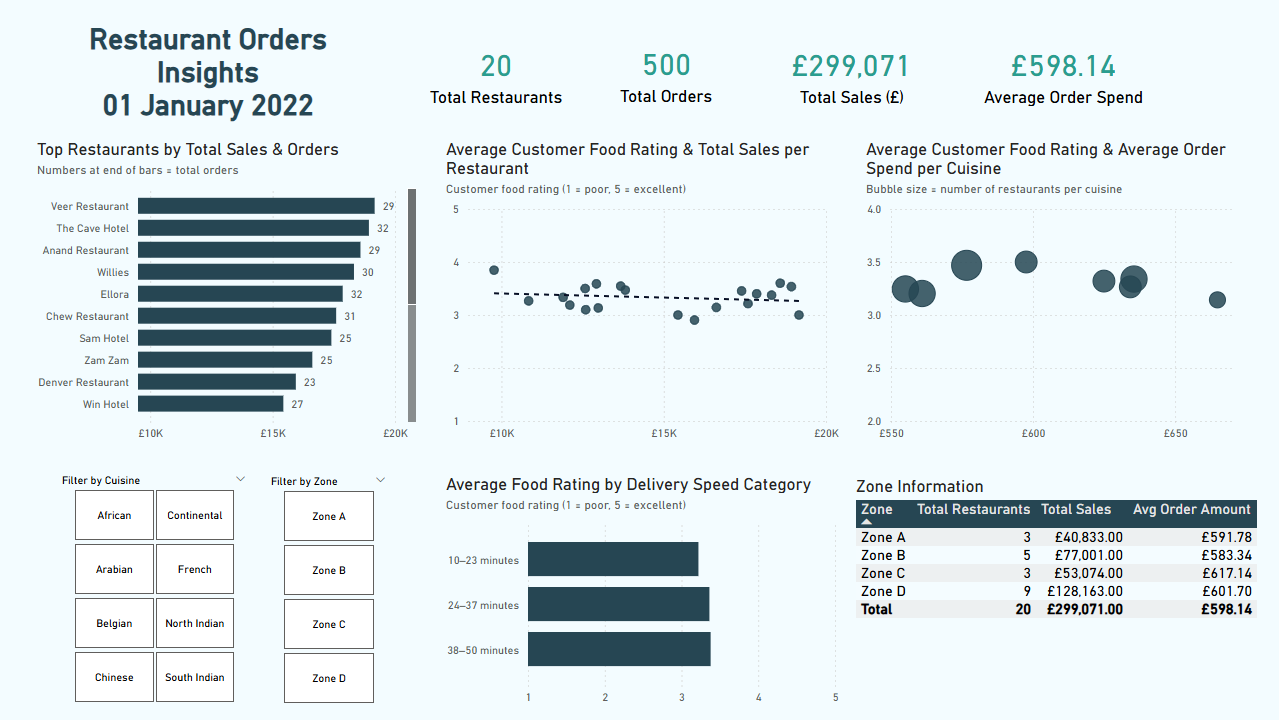

The dashboard page shown, as its layout file describes it:
{"tool":"powerbi","page":{"name":"Page 1","canvas":[1280,720],"ordinal":0},"visuals":[{"type":"card","fields":{"Values":["cleaned_orders.Total Sales"]},"box":[771.9,29.4,158.8,87.5],"z":0},{"type":"donutChart","title":"Average Food Rating per Delivery Speed","fields":{"Category":["cleaned_orders.Delivery Speed Categories"],"Y":["cleaned_orders.Average Food Rating"]},"box":[851,472,407,240],"z":1000},{"type":"slicer","fields":{"Values":["cleaned_restaurants.cuisine"]},"box":[21.2,472.5,208.8,240],"z":2000},{"type":"card","fields":{"Values":["cleaned_orders.Total Restaurants"]},"box":[423.8,36.2,143.8,73.8],"z":3000},{"type":"textbox","box":[39,17,338,115],"z":4000},{"type":"slicer","fields":{"Values":["cleaned_restaurants.zone"]},"box":[230,472.5,140,240],"z":5000},{"type":"card","fields":{"Values":["cleaned_orders.Total Orders"]},"box":[613.8,33.8,104.4,76.2],"z":6000},{"type":"scatterChart","title":"Average Customer Food Rating & Total Sales per Restaurant","fields":{"X":["cleaned_orders.Total Sales"],"Y":["cleaned_orders.Average Food Rating (0-5)"],"Category":["cleaned_restaurants.restaurant_name"]},"box":[448,139,403,308],"z":7000},{"type":"card","fields":{"Values":["cleaned_orders.Average Order Spend"]},"box":[966.2,34.4,194.4,76.9],"z":8000},{"type":"pivotTable","title":"Zone Information","fields":{"Rows":["cleaned_restaurants.zone"],"Values":["CountNonNull(cleaned_restaurants.restaurant_name)","Sum(cleaned_orders.order_amount)","Avg(cleaned_orders.order_amount)"]},"box":[448,472,436,231],"z":9000},{"type":"clusteredBarChart","title":"Top Restaurants by Total Sales & Orders","fields":{"Category":["cleaned_restaurants.restaurant_name"],"Y":["cleaned_orders.Total Sales (£)"]},"box":[35,139,389,308],"z":10000},{"type":"scatterChart","title":"Average Customer Food Rating & Average Order Spend per Cuisine","fields":{"X":["cleaned_orders.Average Order Spend"],"Category":["cleaned_restaurants.cuisine"],"Size":["cleaned_orders.Total Restaurants"],"Y":["cleaned_orders.Average Food Rating (0-5)"]},"box":[869,139,389,308],"z":11000}]}

Visuals, with their boxes in screenshot pixels (x1, y1, x2, y2), scaled from the page's 1280x720 canvas onto the 1279x720 screenshot:
card - cleaned_orders.Total Sales: x1=771, y1=29, x2=930, y2=117
"Average Food Rating per Delivery Speed" donutChart: x1=850, y1=472, x2=1257, y2=712
slicer - cleaned_restaurants.cuisine: x1=21, y1=472, x2=230, y2=712
card - cleaned_orders.Total Restaurants: x1=423, y1=36, x2=567, y2=110
textbox: x1=39, y1=17, x2=377, y2=132
slicer - cleaned_restaurants.zone: x1=230, y1=472, x2=370, y2=712
card - cleaned_orders.Total Orders: x1=613, y1=34, x2=718, y2=110
"Average Customer Food Rating & Total Sales per Restaurant" scatterChart: x1=448, y1=139, x2=850, y2=447
card - cleaned_orders.Average Order Spend: x1=965, y1=34, x2=1160, y2=111
"Zone Information" pivotTable: x1=448, y1=472, x2=883, y2=703
"Top Restaurants by Total Sales & Orders" clusteredBarChart: x1=35, y1=139, x2=424, y2=447
"Average Customer Food Rating & Average Order Spend per Cuisine" scatterChart: x1=868, y1=139, x2=1257, y2=447
